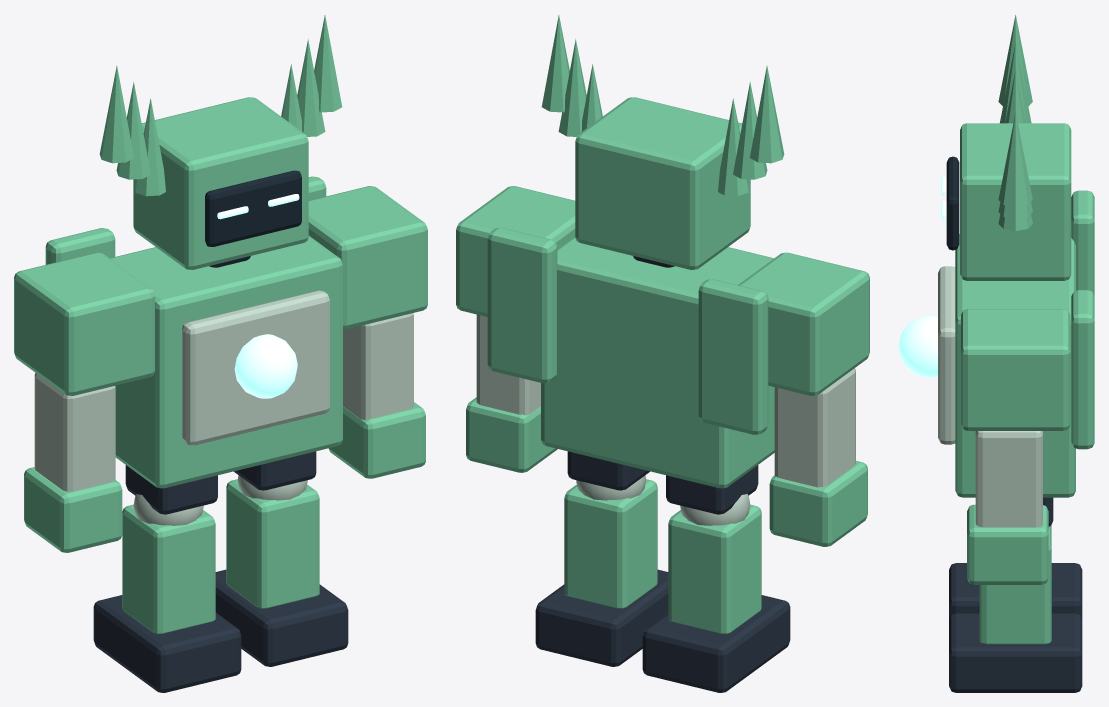
The model's file is world_0.glb.
3 renders of one model, left to right at view 1: azimuth 30°, elevation 25°; view 2: azimuth 150°, elevation 25°; view 3: azimuth 270°, elevation 25°, orthographic. The views are drawn at different scales.
Parts seen in each view (by area): view 1: Marshal Thorn export; view 2: Marshal Thorn export; view 3: Marshal Thorn export.
Boxes of the visible parts, bbox=[...] form: Marshal Thorn export: bbox=[14, 15, 427, 692]; Marshal Thorn export: bbox=[456, 15, 869, 692]; Marshal Thorn export: bbox=[898, 15, 1094, 692].
Size of the model in its own units: 2.6 by 4.14 by 1.25.
